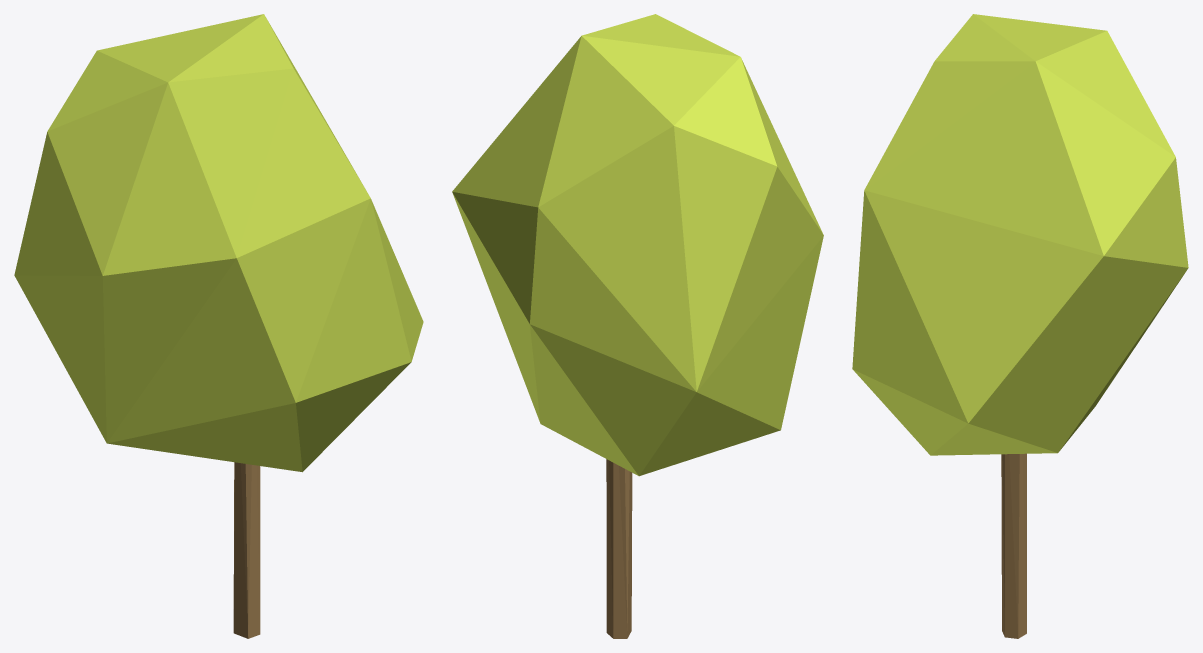
Rendered from tree1.fbx.
3 renders of one model, left to right at view 1: azimuth 30°, elevation 25°; view 2: azimuth 150°, elevation 25°; view 3: azimuth 270°, elevation 25°, orthographic. The views are drawn at different scales.
Parts seen in each view (by area): view 1: tree2; view 2: tree2; view 3: tree2.
Boxes of the visible parts, x1,y1,x2,y2 form: tree2: (14, 14, 423, 638); tree2: (452, 14, 823, 638); tree2: (852, 14, 1188, 638).
Bounding box in the file's own units: 462 × 803 × 418.
